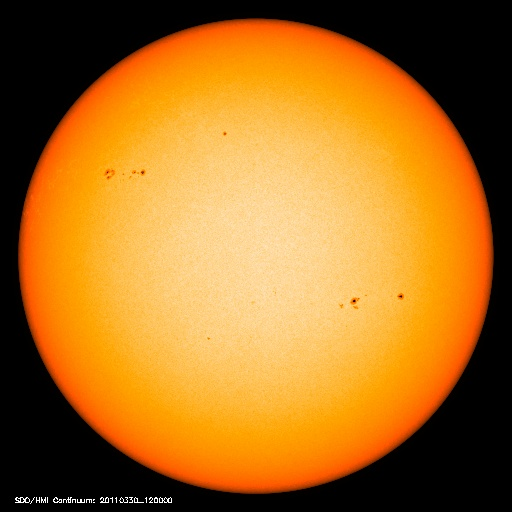sunspot: (330, 285, 415, 316), (96, 159, 157, 188), (210, 119, 241, 148)
